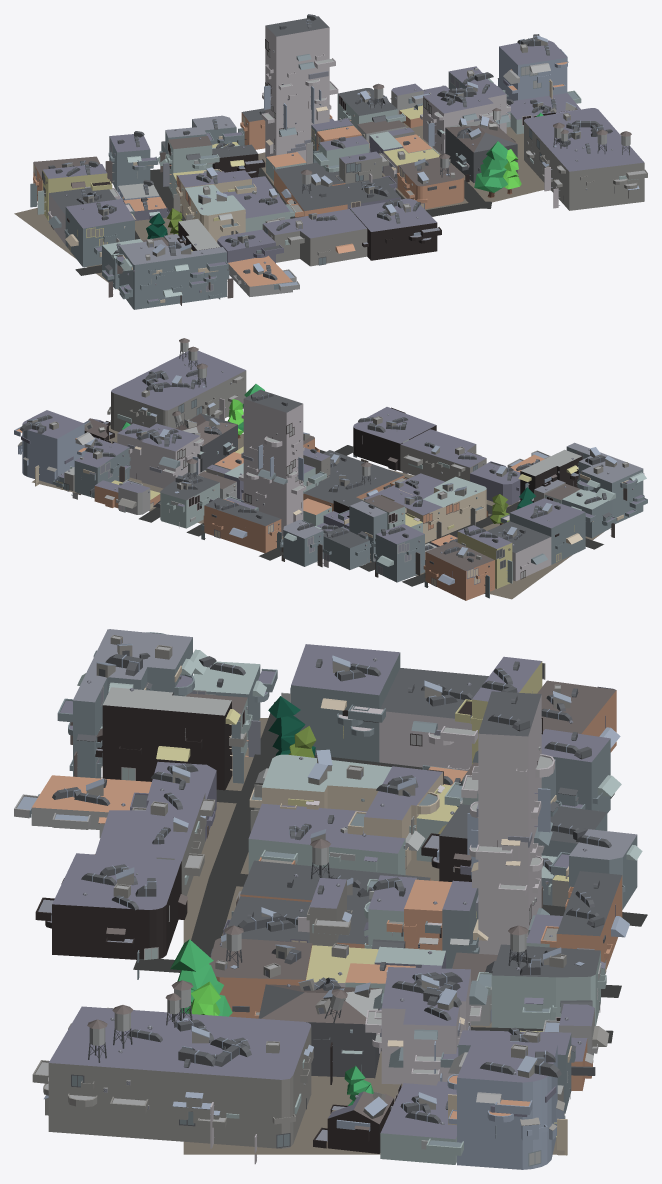
File: MN_Env5.fbx
3 views of the same model, one above another, from view 1: azimuth 30°, elevation 25°; view 2: azimuth 150°, elevation 25°; view 3: azimuth 270°, elevation 25° (orthographic). The views are drawn at different scales.
Visible parts, largest first — view 1: Env_MN_05; view 2: Env_MN_05; view 3: Env_MN_05.
Boxes of the visible parts, left/top/right/bottom form: Env_MN_05: left=14, top=14, right=647, bottom=309; Env_MN_05: left=14, top=338, right=647, bottom=600; Env_MN_05: left=14, top=629, right=647, bottom=1169.
Bounding box in the file's own units: 8709 × 2265 × 4908.
